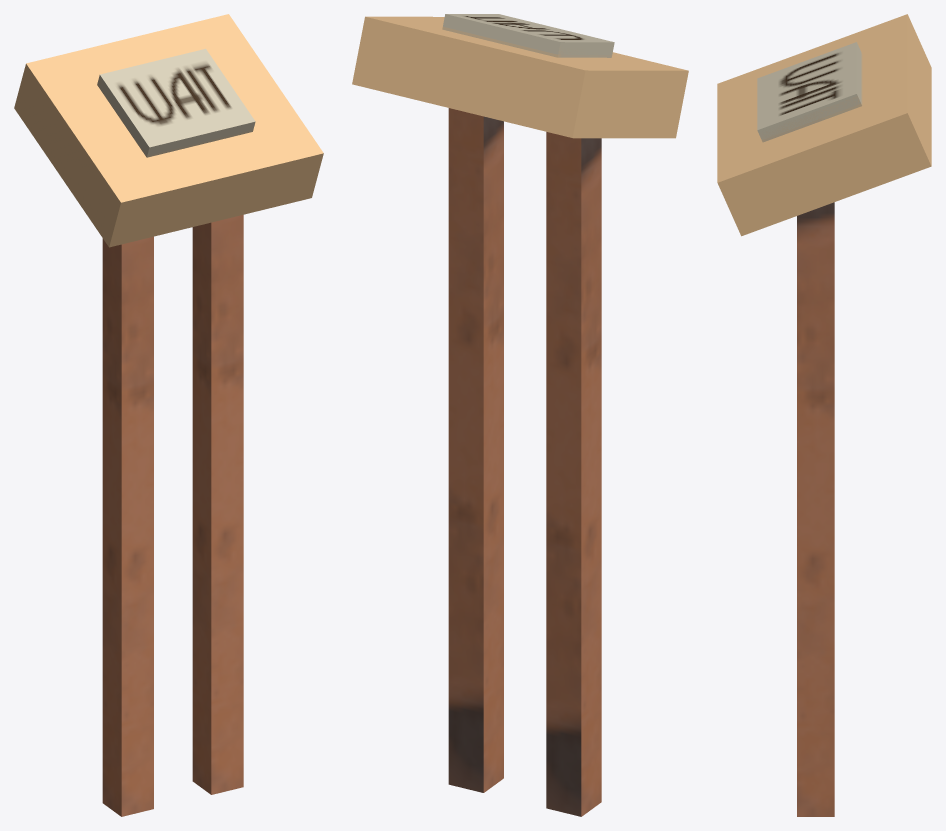
File: Tower_Station_CallerButton_Art.fbx
3 renders of one model, left to right at view 1: azimuth 30°, elevation 25°; view 2: azimuth 150°, elevation 25°; view 3: azimuth 270°, elevation 25°, orthographic. The views are drawn at different scales.
Parts seen in each view (by area): view 1: Tower_Station_CallerButton_Art; view 2: Tower_Station_CallerButton_Art; view 3: Tower_Station_CallerButton_Art.
Boxes of the visible parts, x1,y1,x2,y2 form: Tower_Station_CallerButton_Art: (14,14,323,816); Tower_Station_CallerButton_Art: (352,14,688,816); Tower_Station_CallerButton_Art: (717,14,931,816).
Size of the model in its own units: 37.33 by 127 by 34.1.
